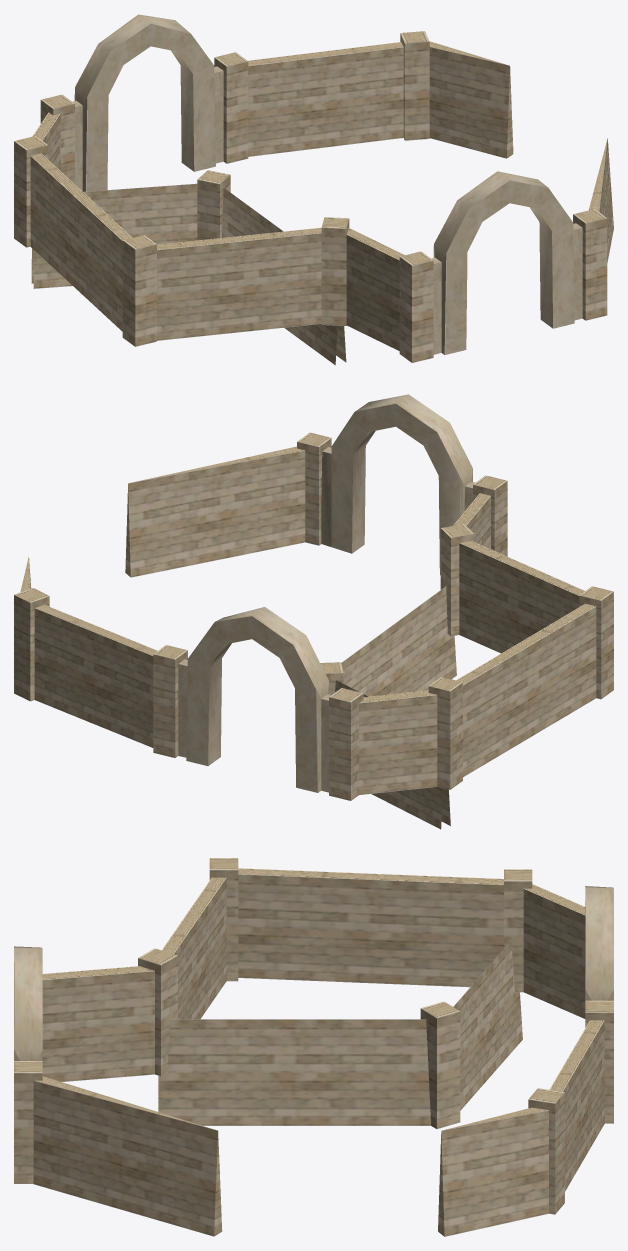
File: poi_nboo_corral_32x32_s02_l1.fbx
3 renders of one model, top to bottom at view 1: azimuth 30°, elevation 25°; view 2: azimuth 150°, elevation 25°; view 3: azimuth 270°, elevation 25°, orthographic. The views are drawn at different scales.
Visible parts, largest first — view 1: mesh_node; view 2: mesh_node; view 3: mesh_node.
Part boxes in pixels (<box>): mesh_node: <box>14,14,613,365</box>; mesh_node: <box>14,394,613,829</box>; mesh_node: <box>14,858,613,1236</box>.
Bounding box in the file's own units: 22.18 × 9 × 21.
1 material, 1 textured.
